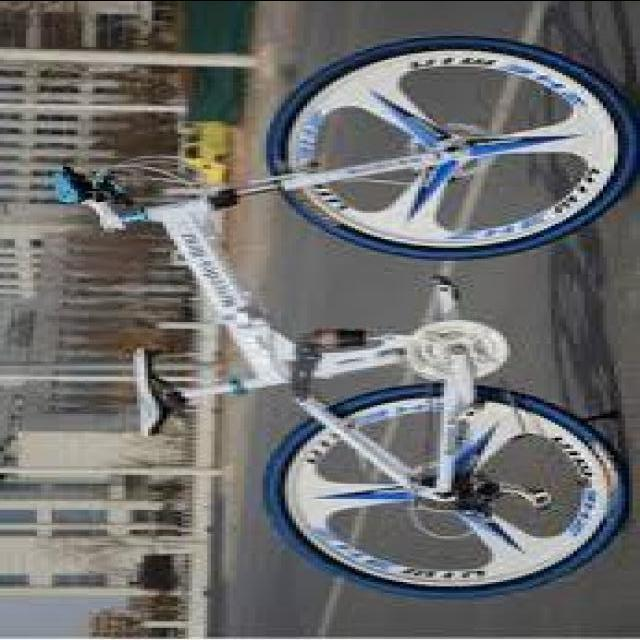bicycle: (56, 31, 640, 597)
